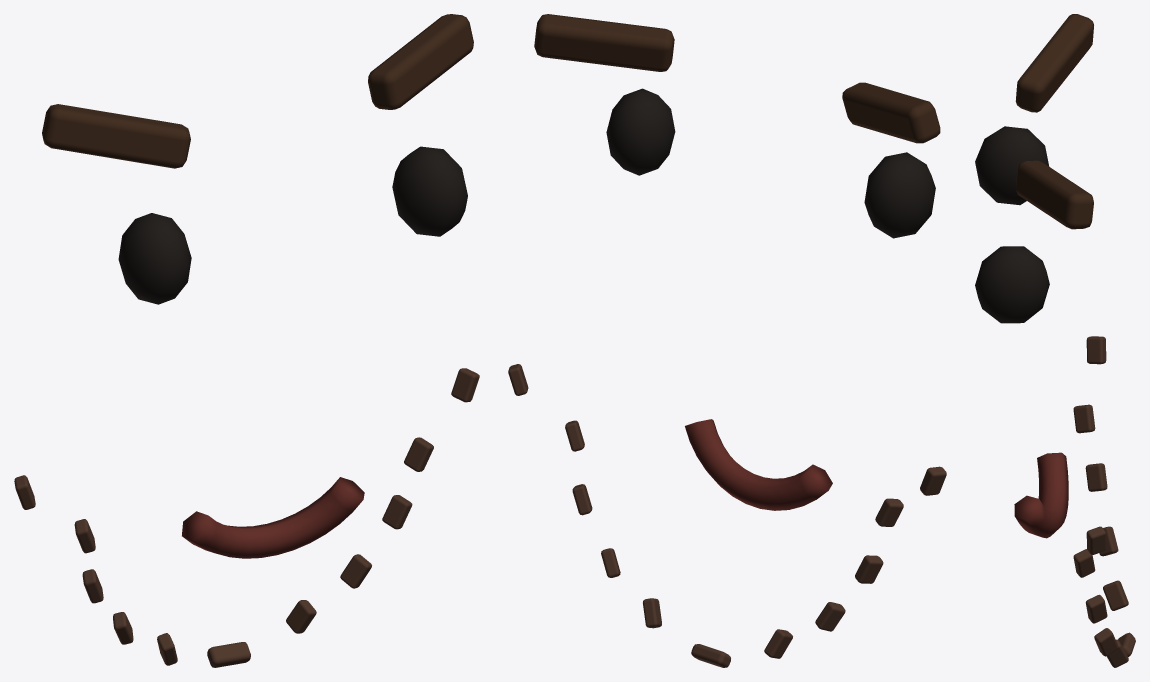
Rendered from 16-scruffy.glb.
The picture shows the model from 3 angles, left to right: view 1: azimuth 30°, elevation 25°; view 2: azimuth 150°, elevation 25°; view 3: azimuth 270°, elevation 25°; orthographic projection. The views are drawn at different scales.
Parts seen in each view (by area): view 1: Face16_Brow-1, Face16_Mouth, Face16_Brow1, Face16_Eye1, Face16_Eye-1, Face16_ChinStubble, Face16_Stubble14, Face16_Stubble11, Face16_Stubble10, Face16_Stubble12, Face16_Stubble13; view 2: Face16_Brow1, Face16_Mouth, Face16_Eye-1, Face16_Eye1, Face16_Brow-1; view 3: Face16_Eye1, Face16_Brow-1, Face16_Eye-1, Face16_Brow1, Face16_Mouth, Face16_Stubble-11, Face16_Stubble-10, Face16_Stubble-14, Face16_Stubble-13, Face16_Stubble14, Face16_Stubble11, Face16_Stubble10 (+4 smaller).
Part boxes in pixels (left/top/right/bottom): Face16_Brow-1: left=42, top=104, right=190, bottom=168; Face16_Mouth: left=182, top=477, right=364, bottom=558; Face16_Brow1: left=368, top=14, right=473, bottom=109; Face16_Eye1: left=392, top=146, right=467, bottom=236; Face16_Eye-1: left=118, top=213, right=191, bottom=304; Face16_ChinStubble: left=207, top=642, right=250, bottom=667; Face16_Stubble14: left=451, top=368, right=479, bottom=402; Face16_Stubble11: left=382, top=495, right=412, bottom=529; Face16_Stubble10: left=404, top=437, right=433, bottom=471; Face16_Stubble12: left=340, top=554, right=371, bottom=588; Face16_Stubble13: left=286, top=600, right=316, bottom=633; Face16_Brow1: left=534, top=14, right=674, bottom=71; Face16_Mouth: left=685, top=419, right=832, bottom=510; Face16_Eye-1: left=864, top=152, right=935, bottom=238; Face16_Eye1: left=606, top=88, right=675, bottom=175; Face16_Brow-1: left=842, top=82, right=940, bottom=143; Face16_Eye1: left=975, top=246, right=1049, bottom=323; Face16_Brow-1: left=1015, top=14, right=1093, bottom=112; Face16_Eye-1: left=975, top=126, right=1049, bottom=205; Face16_Brow1: left=1016, top=160, right=1093, bottom=229; Face16_Mouth: left=1014, top=452, right=1068, bottom=538; Face16_Stubble-11: left=1085, top=463, right=1107, bottom=491; Face16_Stubble-10: left=1073, top=404, right=1095, bottom=433; Face16_Stubble-14: left=1086, top=336, right=1106, bottom=364; Face16_Stubble-13: left=1103, top=580, right=1128, bottom=610; Face16_Stubble14: left=1086, top=526, right=1106, bottom=554; Face16_Stubble11: left=1085, top=594, right=1107, bottom=623; Face16_Stubble10: left=1073, top=549, right=1095, bottom=577.
Bounding box in the file's own units: 0.3129 × 0.4036 × 0.1063.
